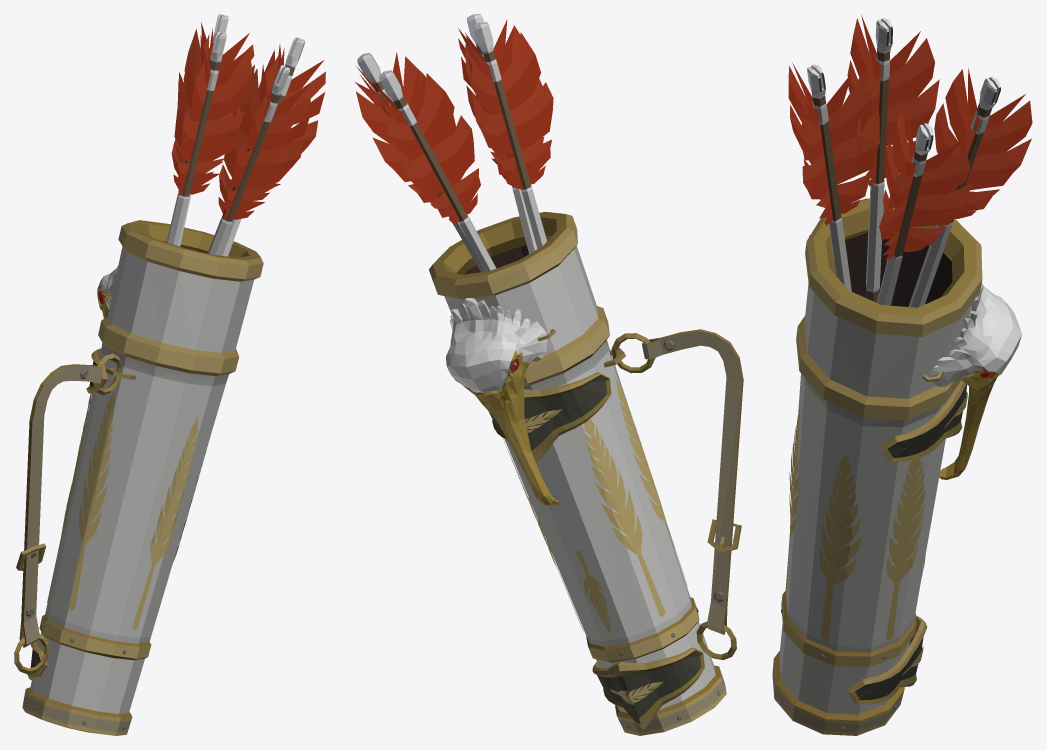
File: pelicanWarriorQuiver.glb
3 views of the same model, side by side, from view 1: azimuth 30°, elevation 25°; view 2: azimuth 150°, elevation 25°; view 3: azimuth 270°, elevation 25° (orthographic). The views are drawn at different scales.
Visible parts, largest first — view 1: pelicanWarriorQuiver; view 2: pelicanWarriorQuiver; view 3: pelicanWarriorQuiver.
Part boxes in pixels (x1=…): pelicanWarriorQuiver: x1=14, y1=14, x2=325, y2=735; pelicanWarriorQuiver: x1=355, y1=14, x2=743, y2=735; pelicanWarriorQuiver: x1=772, y1=15, x2=1032, y2=735.
Size of the model in its own units: 0.4535 by 0.8324 by 0.2487.
